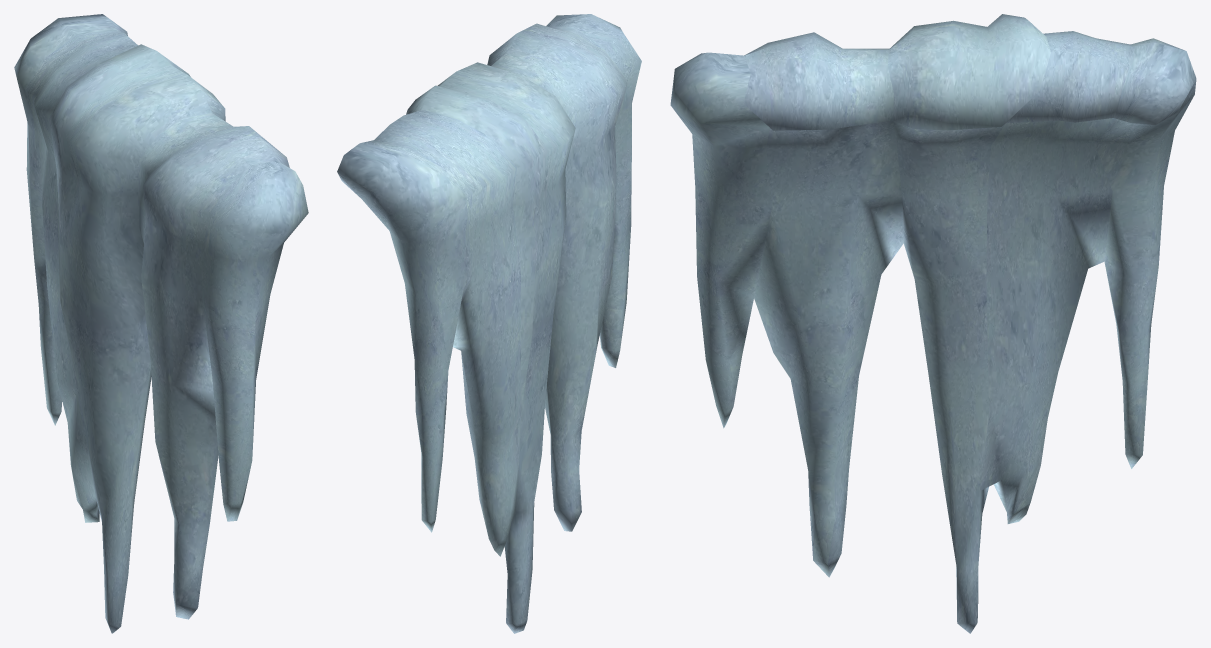
Rendered from tesv_iciclebigclump-transformed.glb.
3 views of the same model, side by side, from view 1: azimuth 30°, elevation 25°; view 2: azimuth 150°, elevation 25°; view 3: azimuth 270°, elevation 25° (orthographic). The views are drawn at different scales.
Parts seen in each view (by area): view 1: iciclebigclump; view 2: iciclebigclump; view 3: iciclebigclump.
Part boxes in pixels (x1,y1,x2,y2): iciclebigclump: (14, 14, 308, 633); iciclebigclump: (337, 14, 641, 633); iciclebigclump: (670, 14, 1196, 633).
Size of the model in its own units: 0.74 by 2.81 by 2.14.
1 material, 1 textured.
